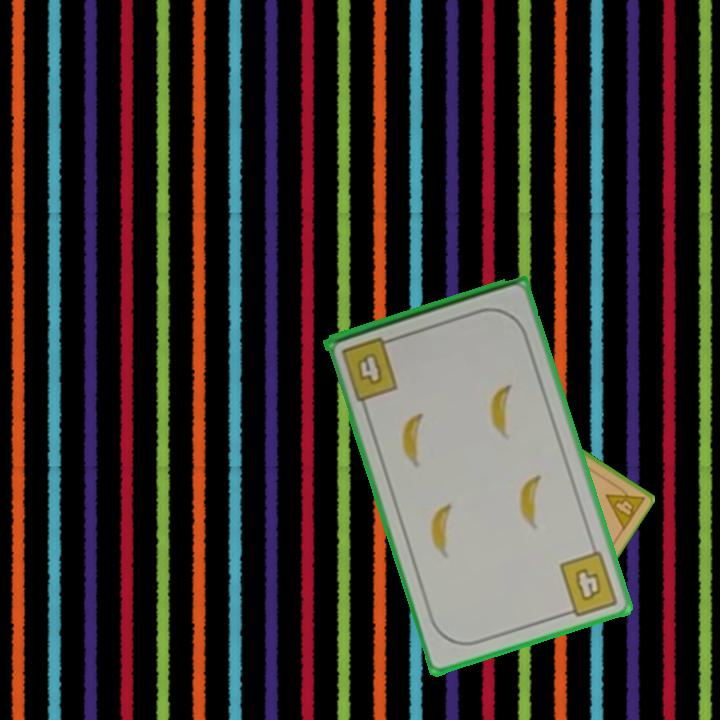4b: (556, 547, 622, 620), (337, 333, 402, 404)
4p: (602, 478, 647, 533)
